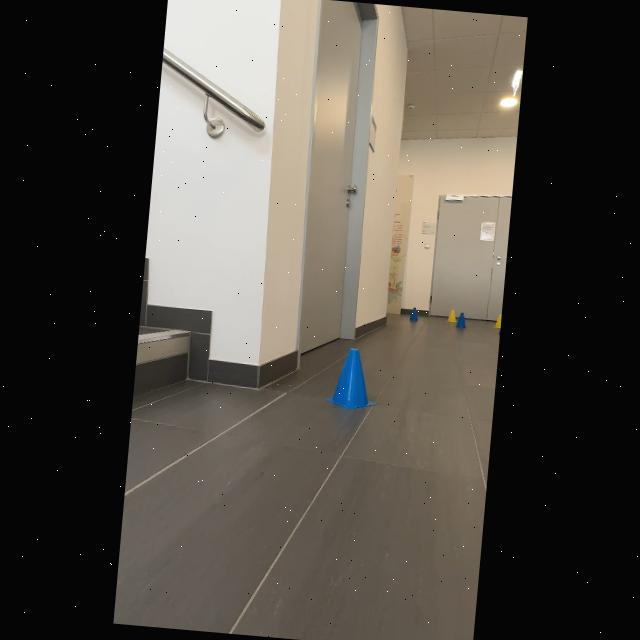blue_cone: (321, 337, 382, 413)
